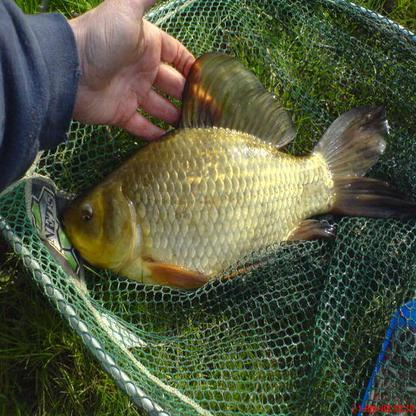fish: (51, 48, 413, 292)
